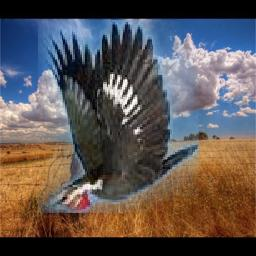Woodpecker: (39, 21, 200, 214)
